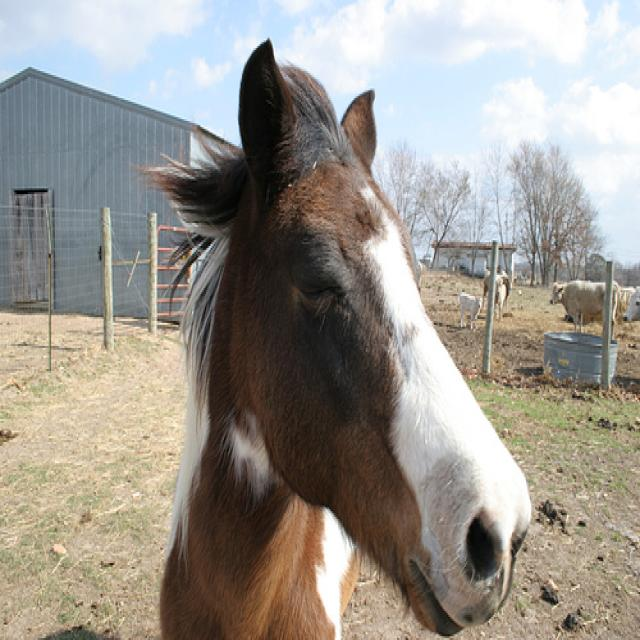cow: (549, 280, 622, 339), (458, 291, 484, 328), (623, 285, 640, 322)
horse: (137, 36, 534, 639)
